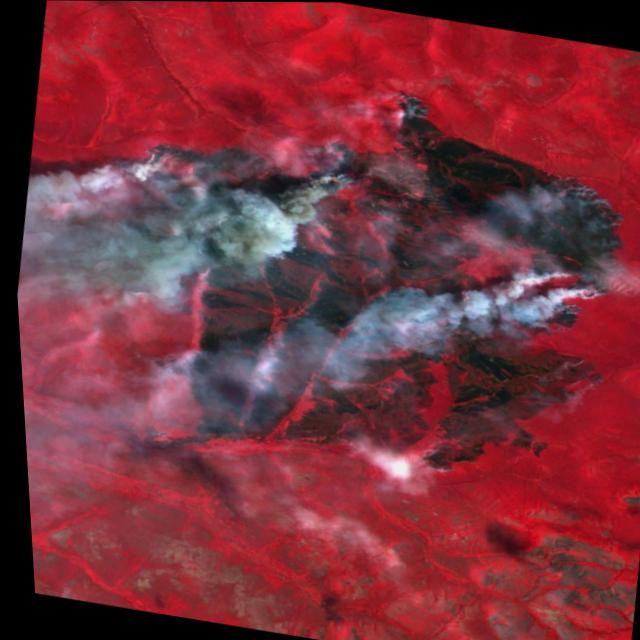fire: (76, 37, 640, 527)
